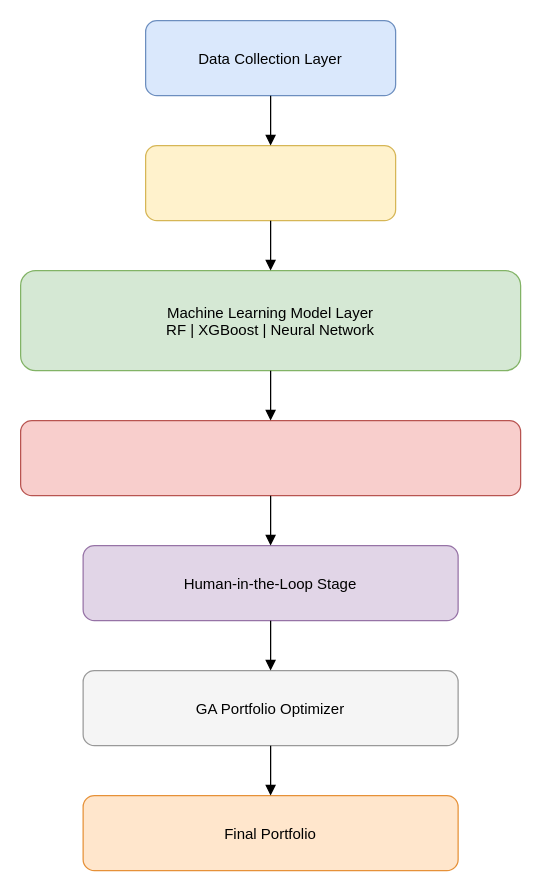
The diagram is 541 pixels wide and 891 high, and some of its shapes have lost their labels. Each missing label, with the centre of its shape:
"Preprocessing + Features" goes at (270,182).
"Return Predictions + Risk Measures" goes at (270,457).
